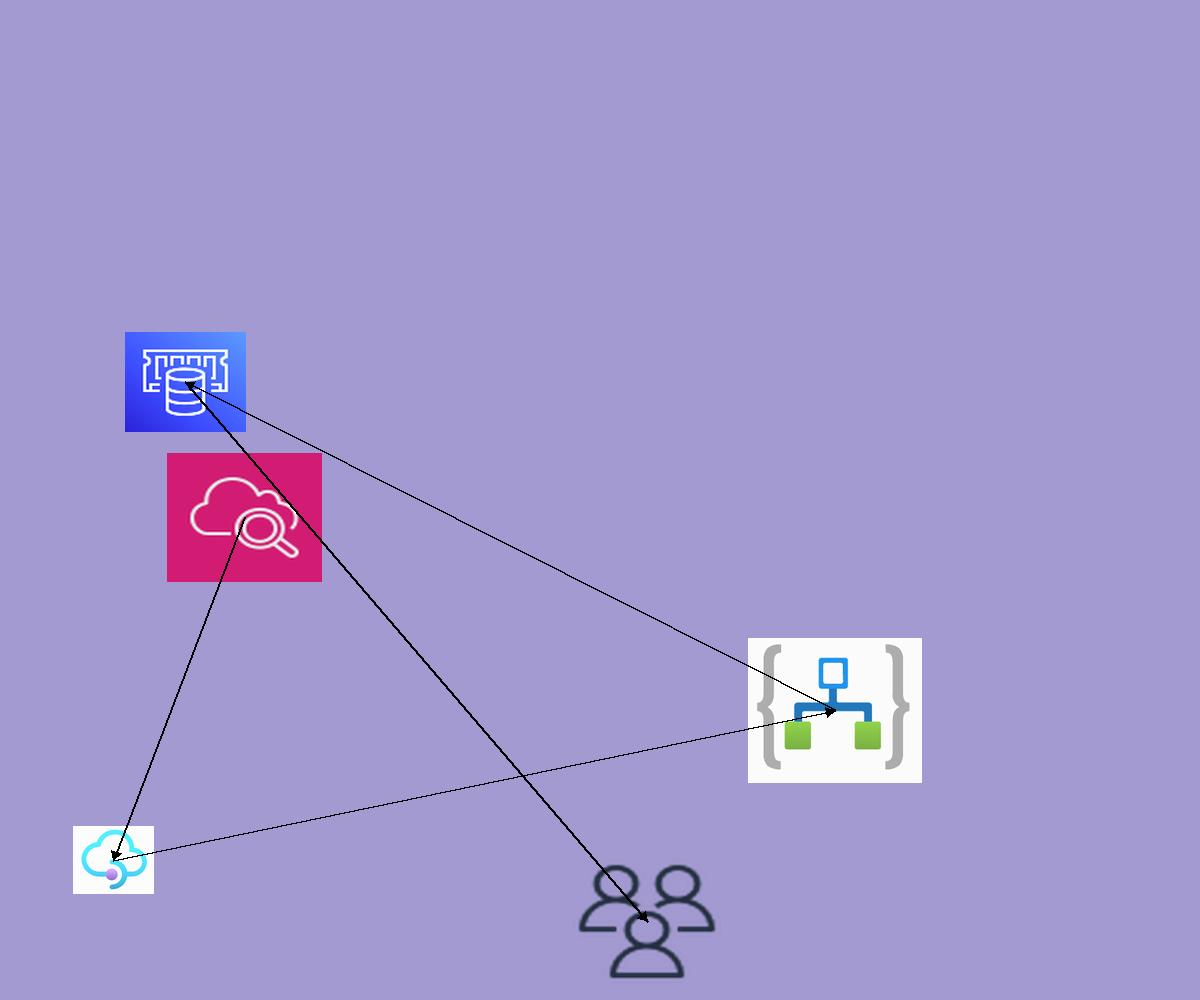AWS-CloudWatch: (167, 453, 322, 582)
AWS-ElastiCache: (125, 332, 246, 432)
AWS-Res_Users: (573, 860, 721, 983)
Azure_api_gateway: (73, 826, 154, 894)
Azure_integration-204-Logic-Apps: (748, 638, 922, 783)
